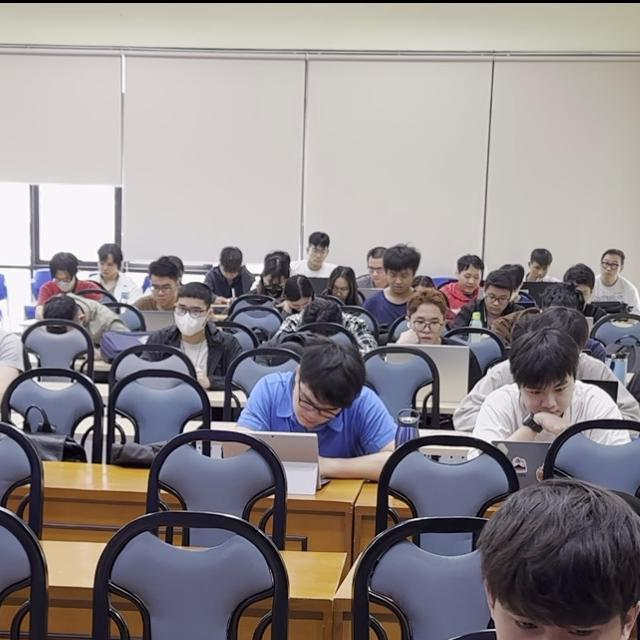Looking away: (290, 373, 341, 431), (519, 373, 573, 421), (409, 308, 446, 349), (386, 267, 415, 296)
Looking forward: (171, 296, 211, 339)
